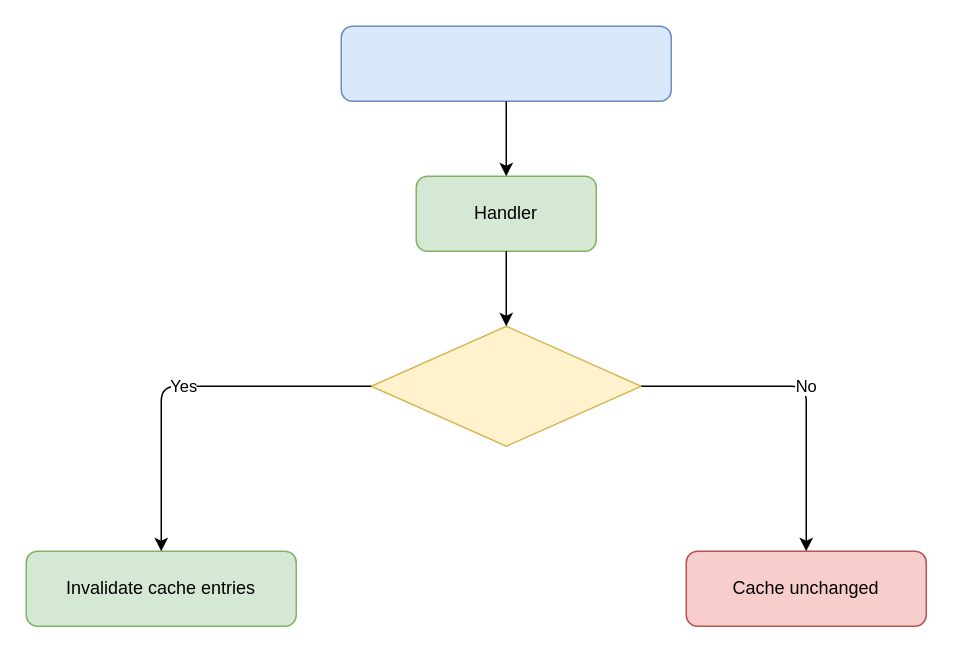
The diagram is 953 pixels wide and 653 high, and some of its shapes have lost their labels. Each missing label, with the box of its shape:
Command (IInvalidatesCache): (340, 25, 671, 101)
Success?: (370, 325, 641, 446)
